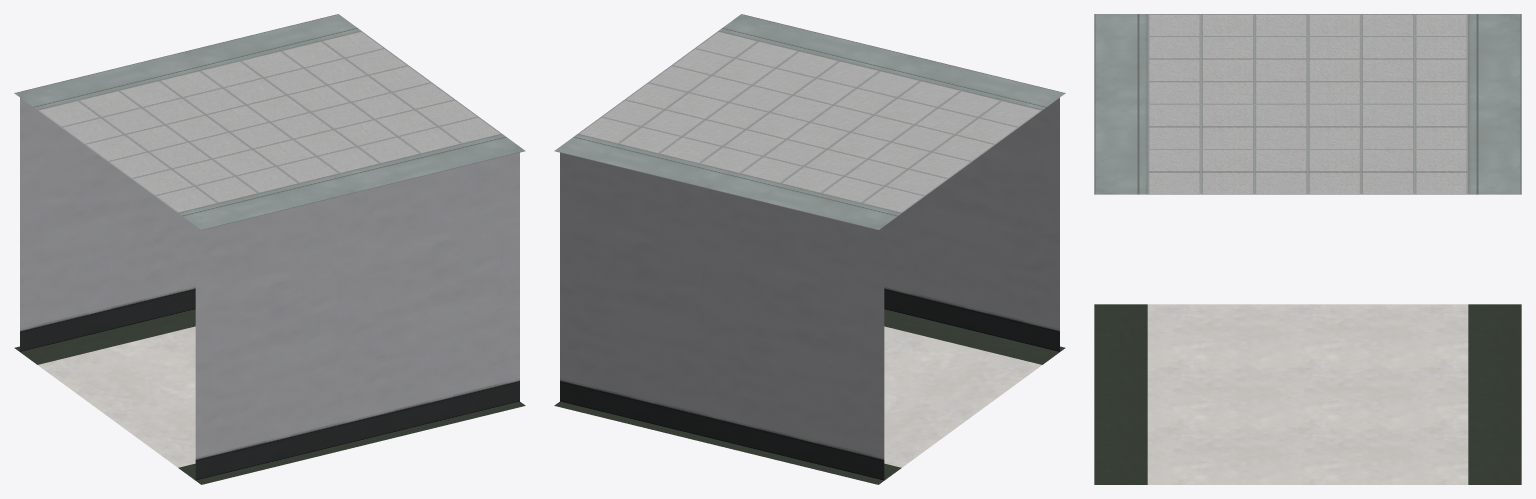
Rendered from Corridor_TwoWalls.fbx.
3 renders of one model, left to right at view 1: azimuth 30°, elevation 25°; view 2: azimuth 150°, elevation 25°; view 3: azimuth 270°, elevation 25°, orthographic. The views are drawn at different scales.
Parts seen in each view (by area): view 1: Wall (×2), Ceiling_I, Marble_Floor_I; view 2: Wall (×2), Ceiling_I, Marble_Floor_I; view 3: Ceiling_I, Marble_Floor_I.
Boxes of the visible parts, box(x1,y1,x2,y2) form: Wall (×2): box(20, 98, 519, 480); Ceiling_I: box(14, 14, 525, 230); Marble_Floor_I: box(14, 309, 525, 484); Wall (×2): box(560, 98, 1059, 480); Ceiling_I: box(554, 14, 1065, 230); Marble_Floor_I: box(554, 309, 1065, 484); Ceiling_I: box(1094, 14, 1521, 194); Marble_Floor_I: box(1094, 304, 1521, 484).
Size of the model in its own units: 4 by 3 by 4.
Materials: 5 (5 with a texture image).
